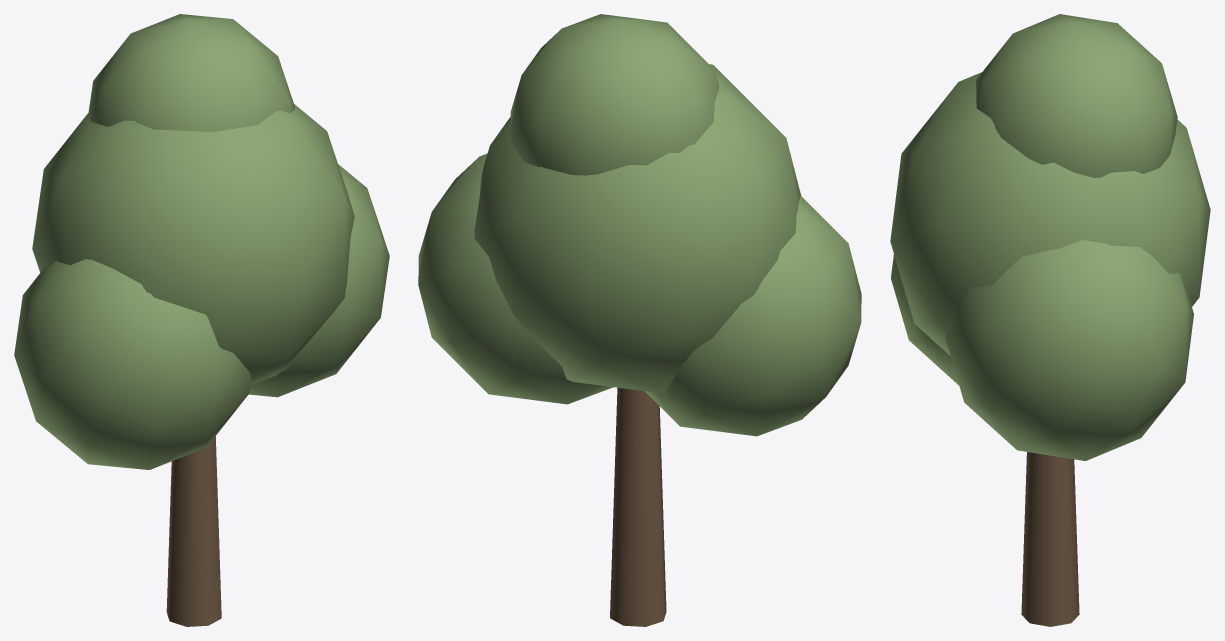
The model's file is tree-1.glb.
3 renders of one model, left to right at view 1: azimuth 30°, elevation 25°; view 2: azimuth 150°, elevation 25°; view 3: azimuth 270°, elevation 25°, orthographic. The views are drawn at different scales.
Visible parts, largest first — view 1: tree-1-0; view 2: tree-1-0; view 3: tree-1-0.
Part boxes in pixels (x1=…): tree-1-0: x1=14, y1=14, x2=389, y2=626; tree-1-0: x1=418, y1=14, x2=861, y2=626; tree-1-0: x1=890, y1=14, x2=1210, y2=626.
Size of the model in its own units: 1.36 by 2.04 by 0.9924.
